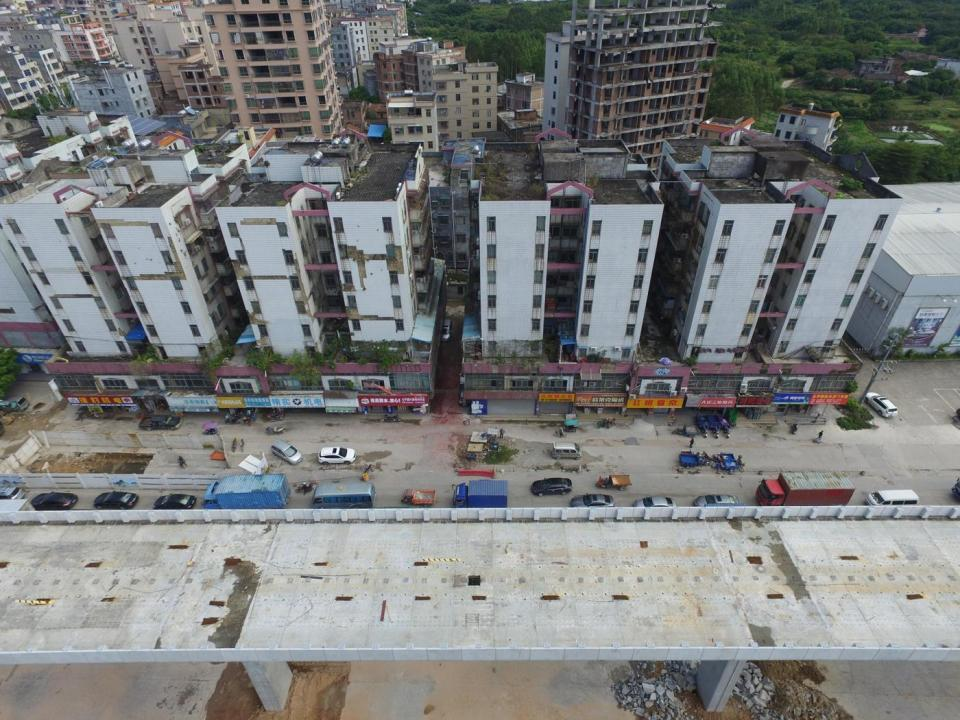bus: (312, 482, 376, 509)
car: (863, 392, 897, 419), (32, 493, 78, 512), (152, 492, 195, 512), (93, 492, 139, 510), (633, 496, 676, 515), (692, 494, 740, 511), (570, 494, 614, 511), (531, 478, 572, 496), (320, 446, 357, 465), (0, 396, 28, 412), (0, 488, 23, 504), (460, 361, 475, 384), (439, 319, 450, 341), (460, 385, 471, 404)
truck: (756, 470, 856, 510), (202, 473, 289, 512), (452, 481, 510, 513), (139, 414, 181, 430)
van: (864, 491, 918, 510), (270, 439, 301, 465), (550, 442, 581, 461)
